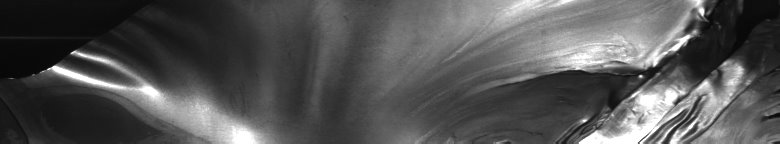ke: (8, 44, 164, 100)
